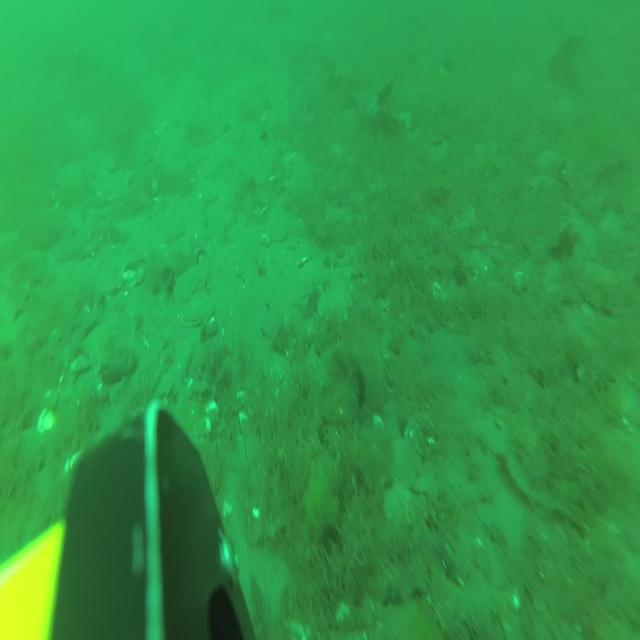scallop: (172, 262, 208, 306), (391, 436, 421, 488), (383, 483, 414, 530), (178, 291, 216, 327), (319, 286, 351, 327), (449, 203, 476, 236), (264, 209, 288, 243), (298, 257, 322, 285), (530, 174, 555, 200), (539, 146, 562, 173)
